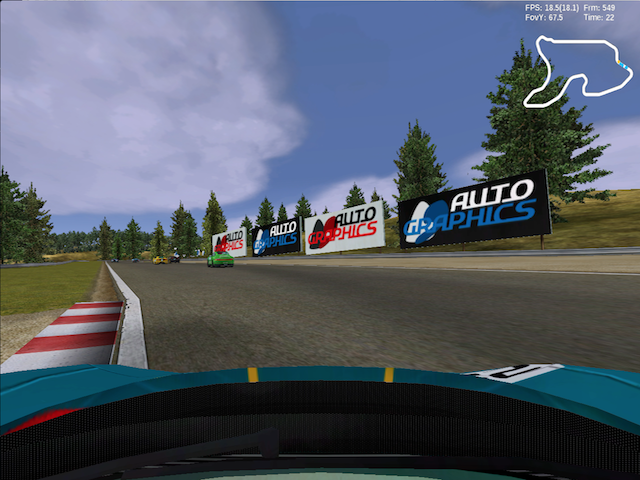Boxer96: (207, 252, 234, 268)
Cavallo360: (152, 256, 168, 265)
Spirit300: (168, 256, 181, 264)
